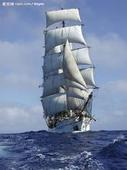fanchuan: (40, 5, 95, 132)
